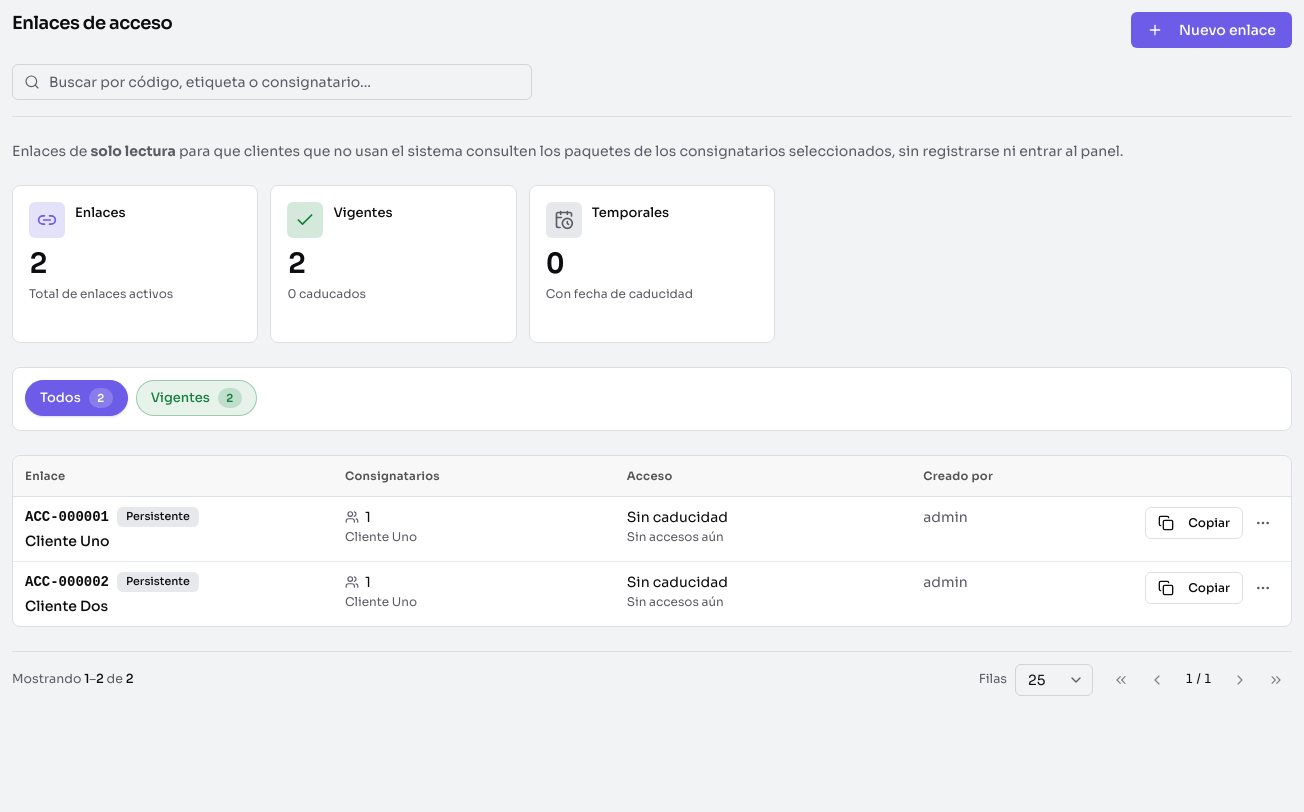
it: EnlacesAccesoPage › la búsqueda por código filtra el enlace correcto
The image size is (1304, 812).
Type "ACC-000002" into the field with placeholder "Buscar por código, etiqueta o consignatario..." at {"x": 272, "y": 82}, box top-left (12, 64), bottom-right (532, 100)
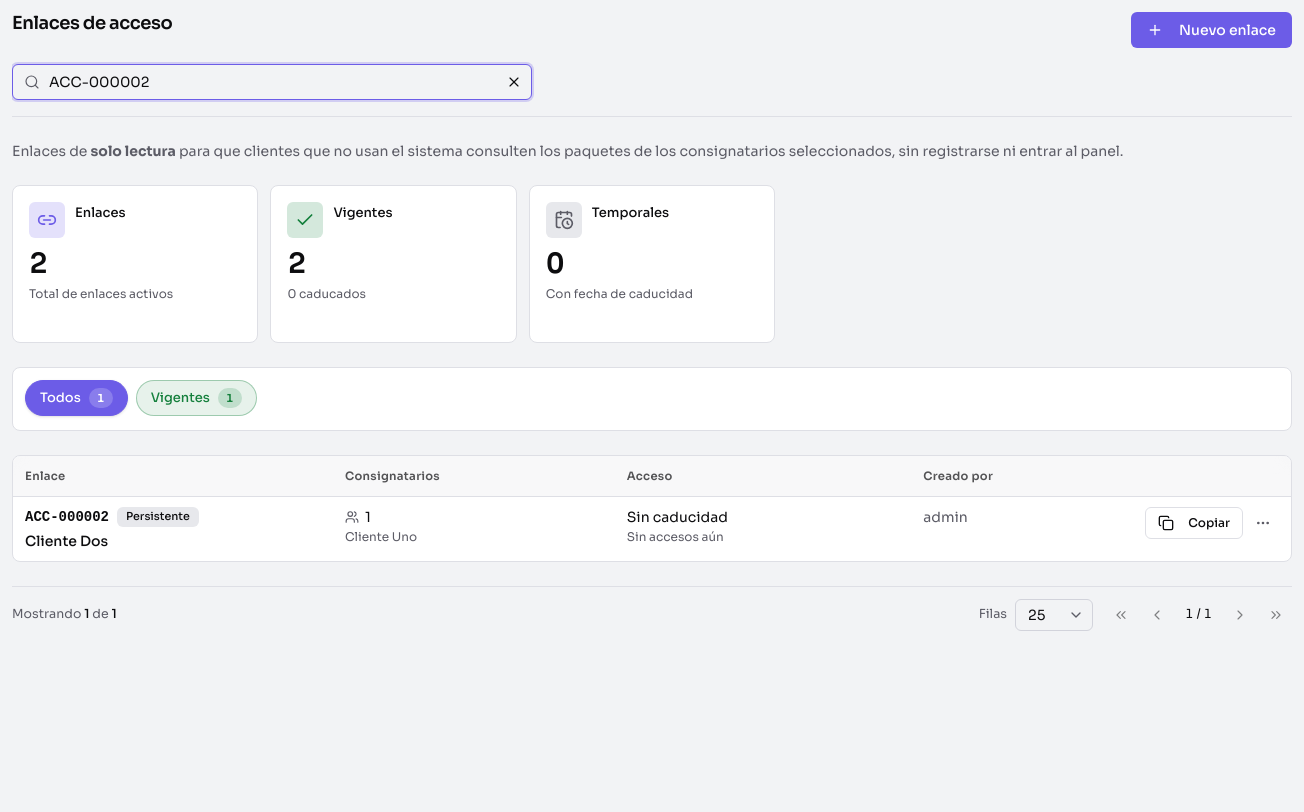
Check: the text "ACC-000002" is shown, box top-left (25, 506), bottom-right (109, 526)
Check: the text "ACC-000001" is gone
